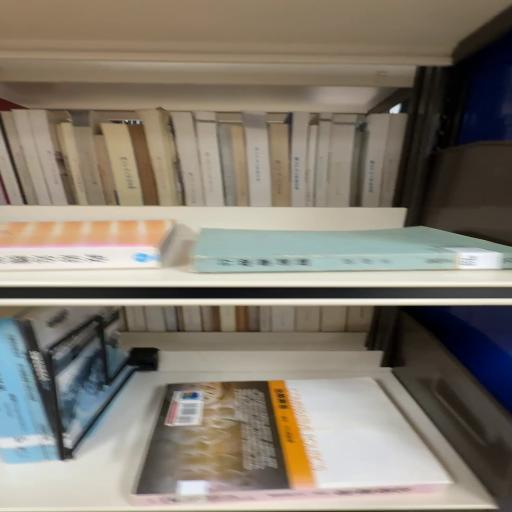flat: (130, 377, 454, 507), (192, 226, 512, 273)
